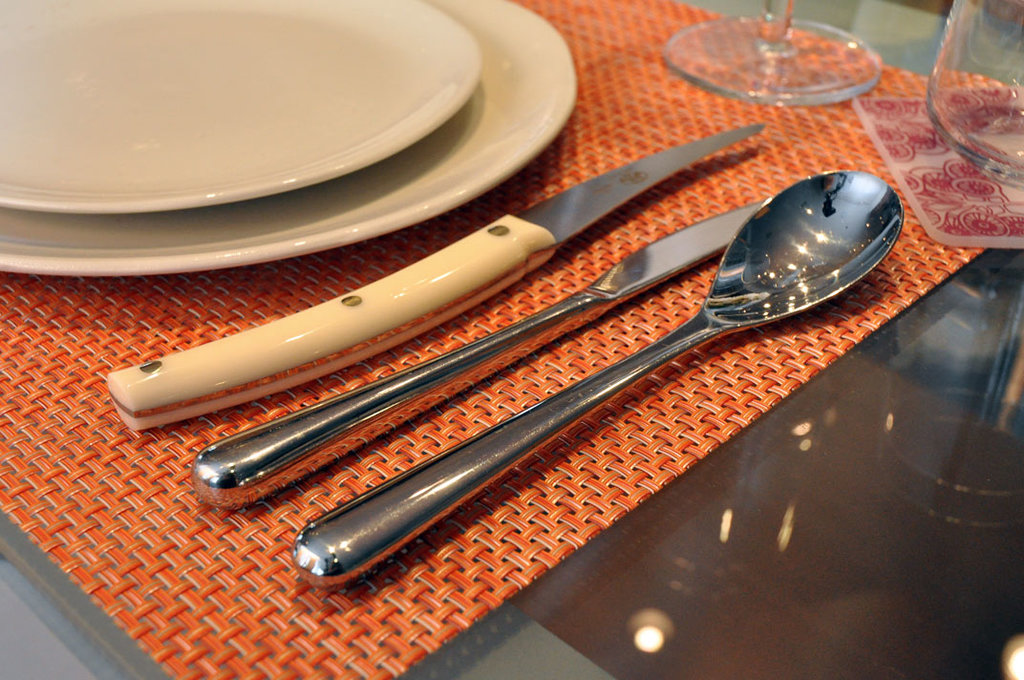plate: (0, 0, 482, 213)
